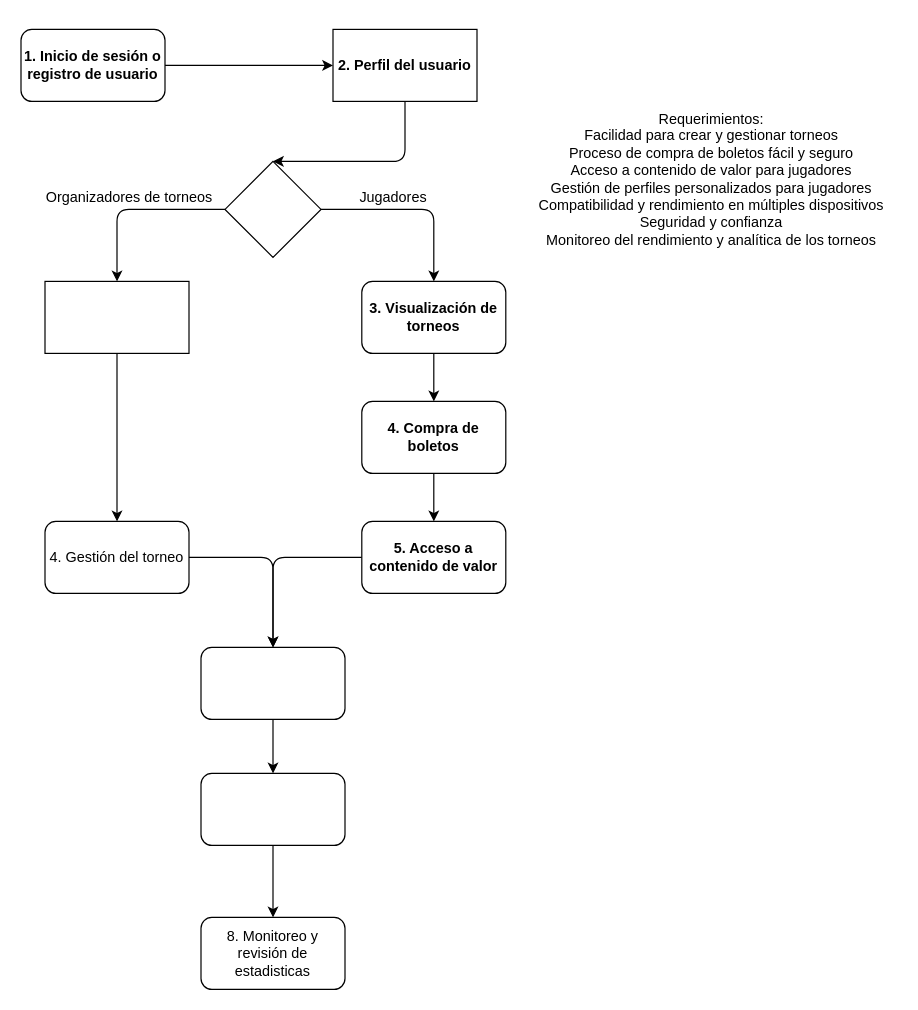
Image size: 918x1010. Some labels were removed from this diagram. Each missing label, with the centre of its shape:
"3. Creación de torneo" belongs at point 116,316.
"6. Torneo en ejecución" belongs at point 272,682.
"7. Finalización del torneo" belongs at point 272,808.
"¿Qué rol tiene?" belongs at point 272,208.
